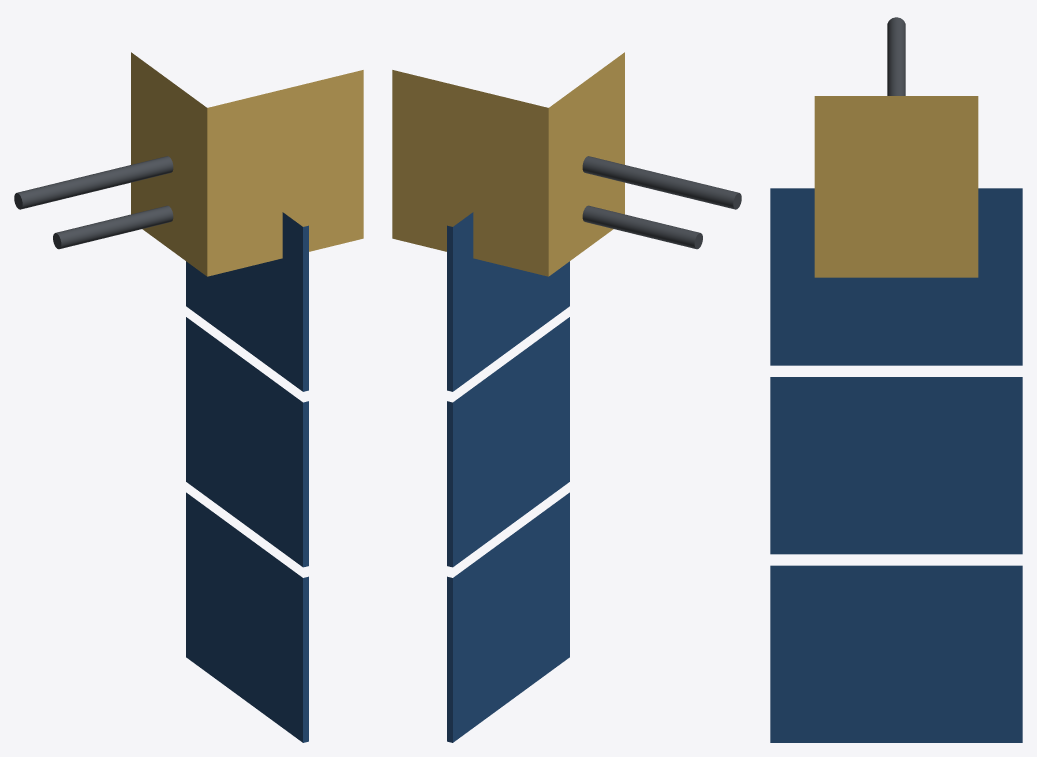
3 views of the same model, side by side, from view 1: azimuth 30°, elevation 25°; view 2: azimuth 150°, elevation 25°; view 3: azimuth 270°, elevation 25° (orthographic). The views are drawn at different scales.
Size of the model in its own units: 5.22 by 10.35 by 3.45.
